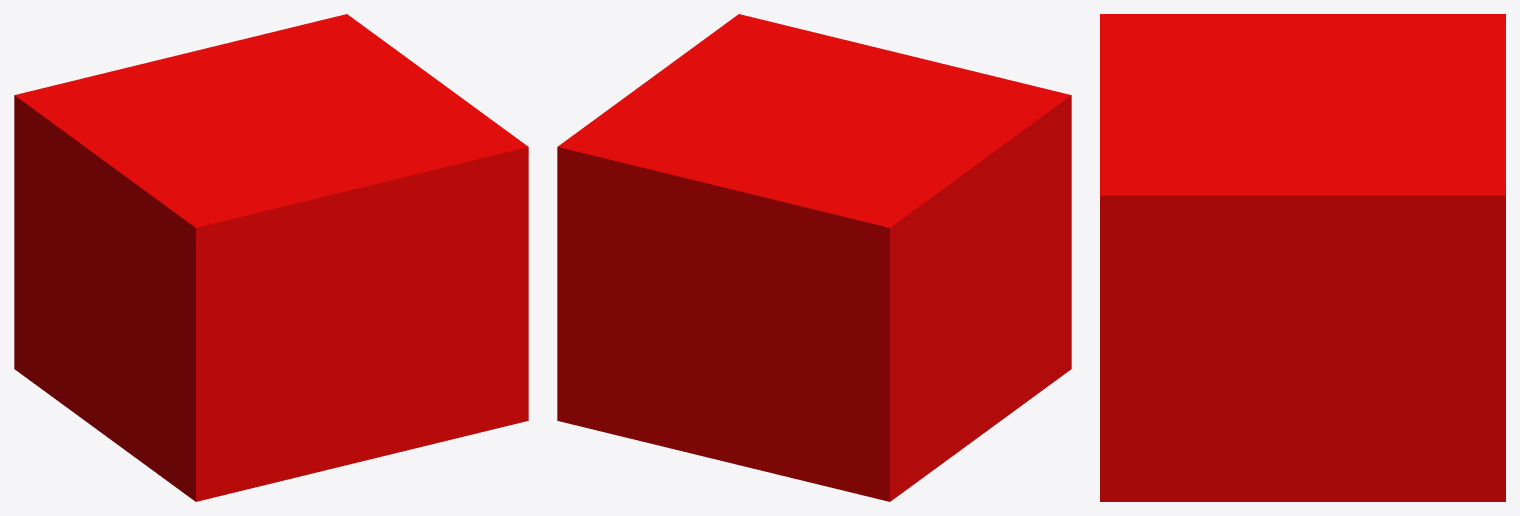
Rendered from r_trpzm_col.dae.
The picture shows the model from 3 angles, left to right: view 1: azimuth 30°, elevation 25°; view 2: azimuth 150°, elevation 25°; view 3: azimuth 270°, elevation 25°; orthographic projection. The views are drawn at different scales.
Parts seen in each view (by area): view 1: node0; view 2: node0; view 3: node0.
Part boxes in pixels (box(x1,y1,x2,y2)): node0: box(14, 14, 528, 501); node0: box(557, 14, 1071, 501); node0: box(1100, 14, 1505, 501).
Bounding box in the file's own units: 0.022 × 0.0174 × 0.0208.
